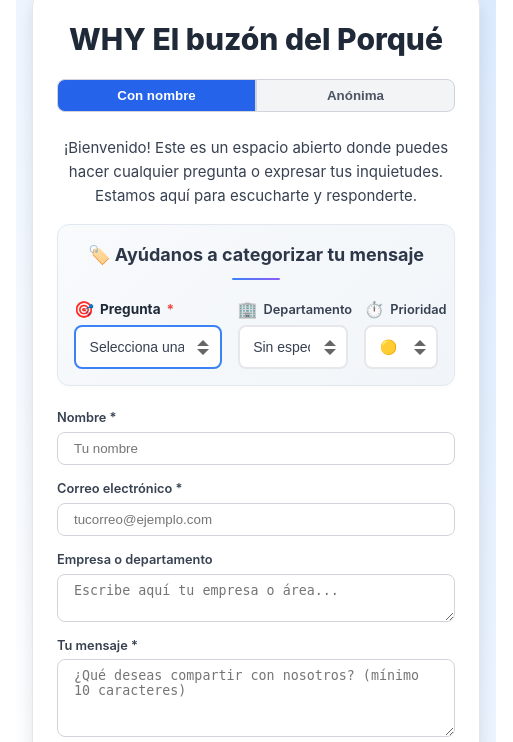
Test: InicioPlataformaWhy › Validaciones de campos › Validación de mensaje › debe mostrar contador de caracteres
The image size is (513, 742).
Type "Mensaje de prueba" into the text box with placeholder "¿Qué deseas compartir con nosotros? (mínimo 10 caracteres)".
click(256, 698); type("Mensaje de prueba")  # box [57, 659, 455, 737]
(page scrolled)
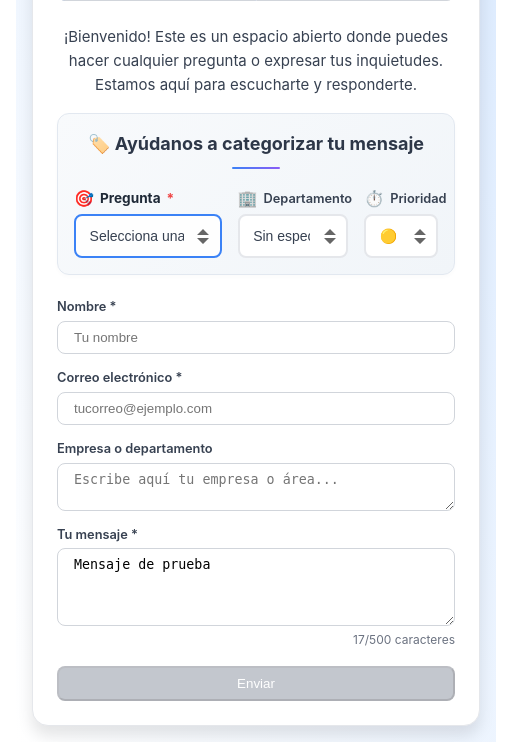
Expected: the text with class "contador-caracteres" reads "17/500 caracteres", [353, 632, 455, 647]
